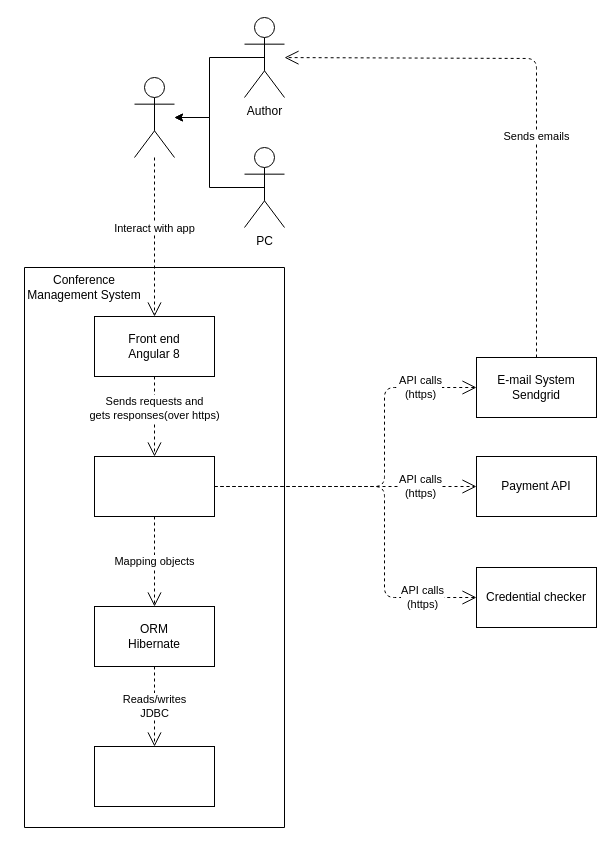
Image size: 614x845. Some labels were removed from this diagram. Each missing label, with the centre of its shape:
Back end Java Spring 5: point (154, 486)
Database Postgres: point (154, 776)
User: point (154, 117)
